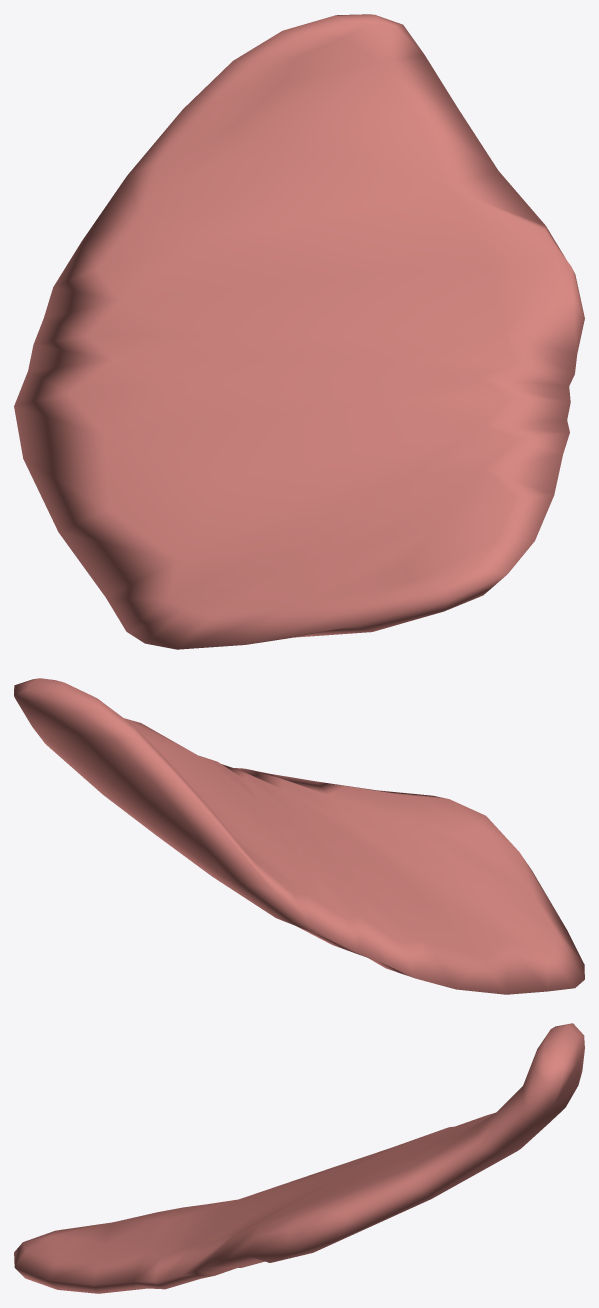
3 renders of one model, top to bottom at view 1: azimuth 30°, elevation 25°; view 2: azimuth 150°, elevation 25°; view 3: azimuth 270°, elevation 25°, orthographic. The views are drawn at different scales.
Parts seen in each view (by area): view 1: ZA_465f42ca3901ec1f; view 2: ZA_465f42ca3901ec1f; view 3: ZA_465f42ca3901ec1f.
Part boxes in pixels (x1,y1,x2,y2): ZA_465f42ca3901ec1f: (14,14,584,649); ZA_465f42ca3901ec1f: (14,678,584,994); ZA_465f42ca3901ec1f: (14,1023,584,1293).
Size of the model in its own units: 0.00565 by 0.00422 by 0.00621.
